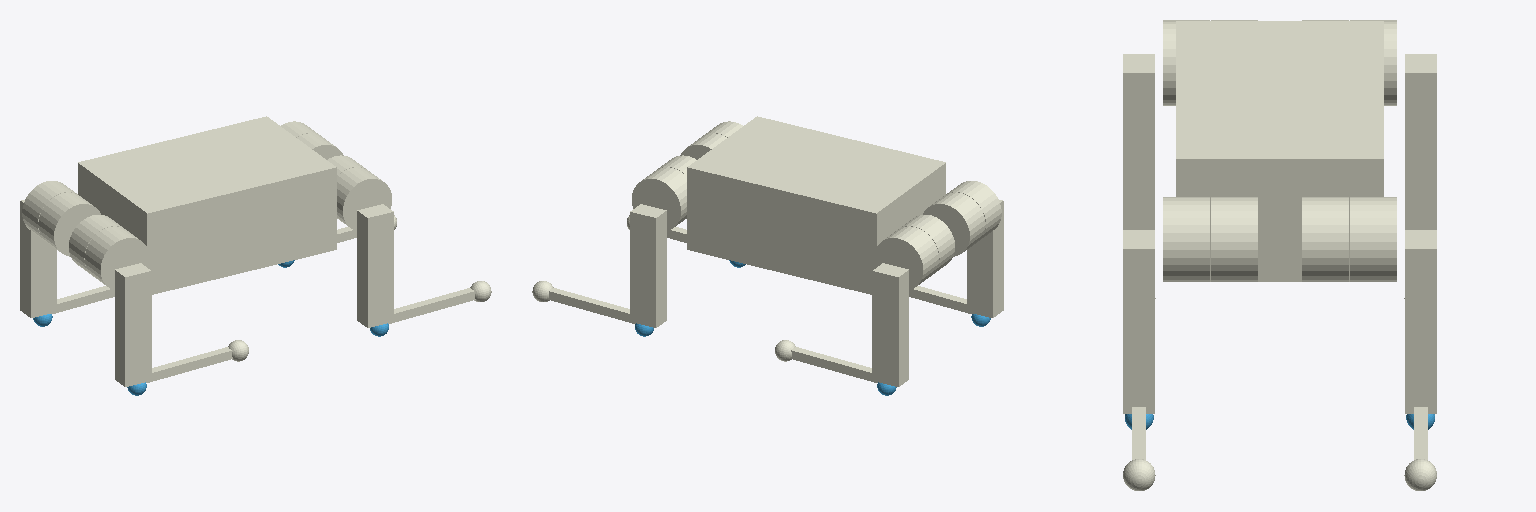
--- What the picture shows (computed from the rendered views, not written in the file) ---
Views: 3 orthographic renders of the robot side by side, from view 1: azimuth 30°, elevation 25°; view 2: azimuth 150°, elevation 25°; view 3: azimuth 270°, elevation 25°.
Model cyberdog_description with 35 links and 34 joints (12 revolute, 22 fixed), rooted at base, posed all joints at 0 but 4 set to mid-range because 0 is outside their limits (FR_calf_joint = -1.61, FL_calf_joint = -1.61, RR_calf_joint = -1.61, RL_calf_joint = -1.61).
Links seen in each view (by area): view 1: trunk, FR_thigh, RR_thigh, RL_thigh, RR_thigh_shoulder, FR_thigh_shoulder, RL_hip, FR_calf, RR_calf, RL_thigh_shoulder, RR_hip, RL_calf (+1 smaller); view 2: trunk, FL_thigh, RL_thigh, RR_thigh, RL_thigh_shoulder, FL_thigh_shoulder, RR_hip, FL_calf, RL_calf, RR_thigh_shoulder, RL_hip, RR_calf (+1 smaller); view 3: trunk, FR_thigh, FL_thigh, RR_thigh, RL_thigh, FR_hip, FR_thigh_shoulder, FL_hip, FL_thigh_shoulder, RR_thigh_shoulder, RL_thigh_shoulder, FR_calf (+3 smaller).
Link boxes in pixels (box(x1,y1,x2,y2)): trunk: box(78, 116, 336, 294); FR_thigh: box(357, 204, 393, 327); RR_thigh: box(115, 263, 151, 386); RL_thigh: box(20, 200, 56, 317); RR_thigh_shoulder: box(85, 226, 149, 289); FR_thigh_shoulder: box(337, 167, 391, 230); RL_hip: box(38, 192, 100, 256); FR_calf: box(370, 288, 475, 336); RR_calf: box(127, 347, 232, 395); RL_thigh_shoulder: box(22, 181, 76, 240); RR_hip: box(69, 215, 122, 273); RL_calf: box(33, 286, 114, 326); trunk: box(687, 116, 945, 294); FL_thigh: box(630, 204, 666, 327); RL_thigh: box(872, 263, 908, 386); RR_thigh: box(967, 200, 1003, 317); RL_thigh_shoulder: box(874, 226, 938, 289); FL_thigh_shoulder: box(632, 167, 686, 230); RR_hip: box(923, 192, 985, 256); FL_calf: box(548, 288, 653, 336); RL_calf: box(791, 347, 896, 395); RR_thigh_shoulder: box(947, 181, 1001, 240); RL_hip: box(901, 215, 954, 273); RR_calf: box(909, 286, 990, 326); trunk: box(1176, 21, 1383, 281); FR_thigh: box(1123, 230, 1154, 413); FL_thigh: box(1405, 230, 1436, 413); RR_thigh: box(1123, 54, 1154, 229); RL_thigh: box(1405, 54, 1436, 229); FR_hip: box(1211, 197, 1257, 281); FR_thigh_shoulder: box(1163, 197, 1209, 281); FL_hip: box(1302, 197, 1348, 281); FL_thigh_shoulder: box(1350, 197, 1396, 281); RR_thigh_shoulder: box(1163, 20, 1209, 105); RL_thigh_shoulder: box(1350, 20, 1396, 105); FR_calf: box(1125, 407, 1153, 459).
Size in the robot's own frame: 0.7256 by 0.3462 by 0.3032 metres.
Geometry: primitives only (box / cylinder / sphere), no mesh files.

robot.urdf — cyberdog_description:
<?xml version="1.0" ?>
<robot name="cyberdog_description" xmlns:xacro="http://www.ros.org/wiki/xacro">
  <material name="black">
    <color rgba="0.0 0.0 0.0 1.0"/>
  </material>
  <material name="blue">
    <color rgba="0.0 0.0 0.8 1.0"/>
  </material>
  <material name="green">
    <color rgba="0.0 0.8 0.0 1.0"/>
  </material>
  <material name="grey">
    <color rgba="0.2 0.2 0.2 1.0"/>
  </material>
  <material name="silver">
    <color rgba="0.913725490196 0.913725490196 0.847058823529 1.0"/>
  </material>
  <material name="orange">
    <color rgba="0.12 0.15 0.2 1.0"/>
  </material>
  <material name="brown">
    <color rgba="0.870588235294 0.811764705882 0.764705882353 1.0"/>
  </material>
  <material name="red">
    <color rgba="0.8 0.0 0.0 1.0"/>
  </material>
  <material name="white">
    <color rgba="1.0 1.0 1.0 1.0"/>
  </material>

  <link name="base">
    <visual>
      <origin rpy="0 0 0" xyz="0 0 0"/>
      <geometry>
        <box size="0.001 0.001 0.001"/>
      </geometry>
    </visual>
  </link>
  <joint name="floating_base" type="fixed">
    <origin rpy="0 0 0" xyz="0 0 0"/>
    <parent link="base"/>
    <child link="trunk"/>
  </joint>
  <link name="trunk">
    <visual>
      <origin rpy="0 0 0" xyz="0 0 0"/>
      <geometry>
        <box size="0.36 0.23 0.15"/>
      </geometry>
      <material name="silver"/>
    </visual>
    <collision>
      <origin rpy="0 0 0" xyz="0 0 0"/>
      <geometry>
        <box size="0.36 0.23 0.15"/>
      </geometry>
    </collision>
    <inertial>
      <origin rpy="0 0 0" xyz="0.018785003 0.003291012 -0.000925646"/>
      <mass value="6.248410872"/>
      <inertia ixx="0.032143039" ixy="-0.000268204" ixz="-0.00241341" iyy="0.13578316" iyz="8.0244e-05" izz="0.14828095"/>
    </inertial>
  </link>
  <joint name="imu_joint" type="fixed">
    <parent link="trunk"/>
    <child link="imu_link"/>
    <origin rpy="0 0 0" xyz="0 0 0"/>
  </joint>
  <link name="imu_link">
  </link>

  <joint name="FR_hip_joint" type="revolute">
    <origin rpy="0 0 0" xyz="0.23035 -0.05 0"/>
    <parent link="trunk"/>
    <child link="FR_hip"/>
    <axis xyz="1 0 0"/>
    <dynamics damping="0" friction="0"/>
    <limit effort="24" lower="-0.76096355387" upper="0.76096355387" velocity="31"/>
  </joint>
  <link name="FR_hip">
    <visual>
      <origin rpy="1.5707963267948966 0 0" xyz="0 0 0"/>
      <geometry>
        <cylinder length="0.052" radius="0.047"/>
      </geometry>
      <material name="silver"/>
    </visual>
    <collision>
      <origin rpy="1.5707963267948966 0 0" xyz="0 0 0"/>
      <geometry>
        <cylinder length="0.052" radius="0.047"/>
      </geometry>
    </collision>
    <inertial>
      <origin rpy="0 0 0" xyz="-0.001597914 -0.001680938 2.253e-06"/>
      <mass value="0.537806728"/>
      <inertia ixx="0.000403612" ixy="9.337e-06" ixz="5.36e-07" iyy="0.000600779" iyz="6.3e-08" izz="0.000417249"/>
    </inertial>
  </link>
  <joint name="FR_hip_rotor_fix" type="fixed">
    <origin rpy="0 0 0" xyz="-0.0832504 0 0"/>
    <parent link="FR_hip"/>
    <child link="FR_hip_rotor"/>
  </joint>
  <!-- this link is only for abad rotor inertial -->
  <link name="FR_hip_rotor">
    <inertial>
      <origin rpy="0 0 0" xyz="0 0 0"/>
      <mass value="0.076506382"/>
      <inertia ixx="4.5843e-05" ixy="0" ixz="0" iyy="4.5871e-05" iyz="0" izz="8.9031e-05"/>
    </inertial>
  </link>
  <joint name="FR_hip_fixed" type="fixed">
    <origin rpy="0 0 0" xyz="0 -0.053076000000000005 0"/>
    <parent link="FR_hip"/>
    <child link="FR_thigh_shoulder"/>
  </joint>
  <link name="FR_thigh_shoulder">
    <visual>
      <origin rpy="1.5707963267948966 0 0" xyz="0 0 0"/>
      <geometry>
        <cylinder length="0.052" radius="0.047"/>
      </geometry>
      <material name="silver"/>
    </visual>
    <collision>
      <origin rpy="1.5707963267948966 0 0" xyz="0 0 0"/>
      <geometry>
        <cylinder length="0.052" radius="0.047"/>
      </geometry>
    </collision>
  </link>
  <joint name="FR_thigh_joint" type="revolute">
    <origin rpy="0 0 0" xyz="0 -0.105076 0"/>
    <parent link="FR_hip"/>
    <child link="FR_thigh"/>
    <axis xyz="0 1 0"/>
    <dynamics damping="0" friction="0"/>
    <limit effort="24" lower="-1.88495559215" upper="3.76991118431" velocity="31"/>
  </joint>
  <link name="FR_thigh">
    <visual>
      <origin rpy="0 1.5707963267948966 0" xyz="0 0 -0.1"/>
      <geometry>
        <box size="0.2 0.035 0.05"/>
      </geometry>
      <material name="silver"/>
    </visual>
    <collision>
      <origin rpy="0 1.5707963267948966 0" xyz="0 0 -0.1"/>
      <geometry>
        <box size="0.2 0.035 0.05"/>
      </geometry>
    </collision>
    <inertial>
      <origin rpy="0 0 0" xyz="-0.003205778 0.027811623 -0.027767048"/>
      <mass value="0.950266218"/>
      <inertia ixx="0.004811898" ixy="-9.3647e-05" ixz="-0.000208709" iyy="0.004752366" iyz="-0.000813258" izz="0.001079691"/>
    </inertial>
  </link>
  <joint name="FR_thigh_rotor_fix" type="fixed">
    <origin rpy="0 0 0" xyz="0 0.107226 0"/>
    <parent link="FR_thigh"/>
    <child link="FR_thigh_rotor"/>
  </joint>
  <!-- this link is only for hip rotor inertial -->
  <link name="FR_thigh_rotor">
    <inertial>
      <origin rpy="0 0 0" xyz="0 0 0"/>
      <mass value="0.076506382"/>
      <inertia ixx="4.5843e-05" ixy="0" ixz="0" iyy="4.5871e-05" iyz="0" izz="8.9031e-05"/>
    </inertial>
  </link>
  <joint name="FR_calf_rotor_fix" type="fixed">
    <origin rpy="0 0 0" xyz="0 0.0426259 0"/>
    <parent link="FR_thigh"/>
    <child link="FR_calf_rotor"/>
  </joint>
  <!-- this link is only for knee rotor inertial -->
  <link name="FR_calf_rotor">
    <inertial>
      <origin rpy="0 0 0" xyz="0 0 0"/>
      <mass value="0.076506382"/>
      <inertia ixx="4.5843e-05" ixy="0" ixz="0" iyy="4.5871e-05" iyz="0" izz="8.9031e-05"/>
    </inertial>
  </link>
  <joint name="FR_calf_joint" type="revolute">
    <origin rpy="0 0 0" xyz="0 0 -0.2"/>
    <parent link="FR_thigh"/>
    <child link="FR_calf"/>
    <axis xyz="0 1 0"/>
    <dynamics damping="0" friction="0"/>
    <limit effort="24" lower="-2.49582083035" upper="-0.717155789644" velocity="31"/>
  </joint>
  <link name="FR_calf">
    <visual>
      <origin rpy="0 3.141592653589793 0" xyz="0 0 -0.1045"/>
      <geometry>
        <box size="0.016 0.016 0.209"/>
      </geometry>
      <material name="silver"/>
    </visual>
    <visual name="FR_calf_rubber">
      <origin rpy="0 3.141592653589793 0" xyz="-0.0125 0 -0.007"/>
      <geometry>
        <sphere radius="0.016"/>
      </geometry>
    </visual>
    <collision>
      <origin rpy="0 3.141592653589793 0" xyz="0 0 -0.1045"/>
      <geometry>
        <box size="0.016 0.016 0.209"/>
      </geometry>
    </collision>
    <collision name="FR_calf_rubber">
      <origin rpy="0 3.141592653589793 0" xyz="-0.0125 0 -0.007"/>
      <geometry>
        <sphere radius="0.016"/>
      </geometry>
    </collision>
    <inertial>
      <origin rpy="0 0 0" xyz="0.007372358 0.000122423 -0.10769301"/>
      <mass value="0.1135916"/>
      <inertia ixx="0.000667971" ixy="-1e-09" ixz="5.356e-06" iyy="0.000674399" iyz="-1.5e-08" izz="1.4181e-05"/>
    </inertial>
  </link>
  <joint name="FR_foot_fixed" type="fixed" dont_collapse="true">
    <origin rpy="0 0 0" xyz="0 0 -0.19999999999999998"/>
    <parent link="FR_calf"/>
    <child link="FR_foot"/>
  </joint>
  <link name="FR_foot">
    <visual>
      <origin rpy="0 0 0" xyz="0 0 0"/>
      <geometry>
        <sphere radius="0.018"/>
      </geometry>
      <material name="silver"/>
    </visual>
    <collision>
      <origin rpy="0 0 0" xyz="0 0 0"/>
      <geometry>
        <sphere radius="0.018"/>
      </geometry>
    </collision>
  </link>

  <joint name="FL_hip_joint" type="revolute">
    <origin rpy="0 0 0" xyz="0.23035 0.05 0"/>
    <parent link="trunk"/>
    <child link="FL_hip"/>
    <axis xyz="1 0 0"/>
    <dynamics damping="0" friction="0"/>
    <limit effort="24" lower="-0.76096355387" upper="0.76096355387" velocity="31"/>
  </joint>
  <link name="FL_hip">
    <visual>
      <origin rpy="1.5707963267948966 0 0" xyz="0 0 0"/>
      <geometry>
        <cylinder length="0.052" radius="0.047"/>
      </geometry>
      <material name="silver"/>
    </visual>
    <collision>
      <origin rpy="1.5707963267948966 0 0" xyz="0 0 0"/>
      <geometry>
        <cylinder length="0.052" radius="0.047"/>
      </geometry>
    </collision>
    <inertial>
      <origin rpy="0 0 0" xyz="-0.001597914 0.001680938 2.253e-06"/>
      <mass value="0.537806728"/>
      <inertia ixx="0.000403612" ixy="-9.337e-06" ixz="5.36e-07" iyy="0.000600779" iyz="-6.3e-08" izz="0.000417249"/>
    </inertial>
  </link>
  <joint name="FL_hip_rotor_fix" type="fixed">
    <origin rpy="0 0 0" xyz="-0.0832504 0 0"/>
    <parent link="FL_hip"/>
    <child link="FL_hip_rotor"/>
  </joint>
  <!-- this link is only for abad rotor inertial -->
  <link name="FL_hip_rotor">
    <inertial>
      <origin rpy="0 0 0" xyz="0 0 0"/>
      <mass value="0.076506382"/>
      <inertia ixx="4.5843e-05" ixy="0" ixz="0" iyy="4.5871e-05" iyz="0" izz="8.9031e-05"/>
    </inertial>
  </link>
  <joint name="FL_hip_fixed" type="fixed">
    <origin rpy="0 0 0" xyz="0 0.053076000000000005 0"/>
    <parent link="FL_hip"/>
    <child link="FL_thigh_shoulder"/>
  </joint>
  <link name="FL_thigh_shoulder">
    <visual>
      <origin rpy="1.5707963267948966 0 0" xyz="0 0 0"/>
      <geometry>
        <cylinder length="0.052" radius="0.047"/>
      </geometry>
      <material name="silver"/>
    </visual>
    <collision>
      <origin rpy="1.5707963267948966 0 0" xyz="0 0 0"/>
      <geometry>
        <cylinder length="0.052" radius="0.047"/>
      </geometry>
    </collision>
  </link>
  <joint name="FL_thigh_joint" type="revolute">
    <origin rpy="0 0 0" xyz="0 0.105076 0"/>
    <parent link="FL_hip"/>
    <child link="FL_thigh"/>
    <axis xyz="0 1 0"/>
    <dynamics damping="0" friction="0"/>
    <limit effort="24" lower="-1.88495559215" upper="3.76991118431" velocity="31"/>
  </joint>
  <link name="FL_thigh">
    <visual>
      <origin rpy="0 1.5707963267948966 0" xyz="0 0 -0.1"/>
      <geometry>
        <box size="0.2 0.035 0.05"/>
      </geometry>
      <material name="silver"/>
    </visual>
    <collision>
      <origin rpy="0 1.5707963267948966 0" xyz="0 0 -0.1"/>
      <geometry>
        <box size="0.2 0.035 0.05"/>
      </geometry>
    </collision>
    <inertial>
      <origin rpy="0 0 0" xyz="-0.003205778 -0.027811623 -0.027767048"/>
      <mass value="0.950266218"/>
      <inertia ixx="0.004811898" ixy="9.3647e-05" ixz="-0.000208709" iyy="0.004752366" iyz="0.000813258" izz="0.001079691"/>
    </inertial>
  </link>
  <joint name="FL_thigh_rotor_fix" type="fixed">
    <origin rpy="0 0 0" xyz="0 -0.107226 0"/>
    <parent link="FL_thigh"/>
    <child link="FL_thigh_rotor"/>
  </joint>
  <!-- this link is only for hip rotor inertial -->
  <link name="FL_thigh_rotor">
    <inertial>
      <origin rpy="0 0 0" xyz="0 0 0"/>
      <mass value="0.076506382"/>
      <inertia ixx="4.5843e-05" ixy="0" ixz="0" iyy="4.5871e-05" iyz="0" izz="8.9031e-05"/>
    </inertial>
  </link>
  <joint name="FL_calf_rotor_fix" type="fixed">
    <origin rpy="0 0 0" xyz="0 -0.0426259 0"/>
    <parent link="FL_thigh"/>
    <child link="FL_calf_rotor"/>
  </joint>
  <!-- this link is only for knee rotor inertial -->
  <link name="FL_calf_rotor">
    <inertial>
      <origin rpy="0 0 0" xyz="0 0 0"/>
      <mass value="0.076506382"/>
      <inertia ixx="4.5843e-05" ixy="0" ixz="0" iyy="4.5871e-05" iyz="0" izz="8.9031e-05"/>
    </inertial>
  </link>
  <joint name="FL_calf_joint" type="revolute">
    <origin rpy="0 0 0" xyz="0 0 -0.2"/>
    <parent link="FL_thigh"/>
    <child link="FL_calf"/>
    <axis xyz="0 1 0"/>
    <dynamics damping="0" friction="0"/>
    <limit effort="24" lower="-2.49582083035" upper="-0.717155789644" velocity="31"/>
  </joint>
  <link name="FL_calf">
    <visual>
      <origin rpy="0 3.141592653589793 0" xyz="0 0 -0.1045"/>
      <geometry>
        <box size="0.016 0.016 0.209"/>
      </geometry>
      <material name="silver"/>
    </visual>
    <visual name="FL_calf_rubber">
      <origin rpy="0 3.141592653589793 0" xyz="-0.0125 0 -0.007"/>
      <geometry>
        <sphere radius="0.016"/>
      </geometry>
    </visual>
    <collision>
      <origin rpy="0 3.141592653589793 0" xyz="0 0 -0.1045"/>
      <geometry>
        <box size="0.016 0.016 0.209"/>
      </geometry>
    </collision>
    <collision name="FL_calf_rubber">
      <origin rpy="0 3.141592653589793 0" xyz="-0.0125 0 -0.007"/>
      <geometry>
        <sphere radius="0.016"/>
      </geometry>
    </collision>
    <inertial>
      <origin rpy="0 0 0" xyz="0.007372358 0.000122423 -0.10769301"/>
      <mass value="0.1135916"/>
      <inertia ixx="0.000667971" ixy="-1e-09" ixz="5.356e-06" iyy="0.000674399" iyz="-1.5e-08" izz="1.4181e-05"/>
    </inertial>
  </link>
  <joint name="FL_foot_fixed" type="fixed" dont_collapse="true">
    <origin rpy="0 0 0" xyz="0 0 -0.19999999999999998"/>
    <parent link="FL_calf"/>
    <child link="FL_foot"/>
  </joint>
  <link name="FL_foot">
    <visual>
      <origin rpy="0 0 0" xyz="0 0 0"/>
      <geometry>
        <sphere radius="0.018"/>
      </geometry>
      <material name="silver"/>
    </visual>
    <collision>
      <origin rpy="0 0 0" xyz="0 0 0"/>
      <geometry>
        <sphere radius="0.018"/>
      </geometry>
    </collision>
  </link>

  <joint name="RR_hip_joint" type="revolute">
    <origin rpy="0 0 0" xyz="-0.23035 -0.05 0"/>
    <parent link="trunk"/>
    <child link="RR_hip"/>
    <axis xyz="1 0 0"/>
    <dynamics damping="0" friction="0"/>
    <limit effort="24" lower="-0.76096355387" upper="0.76096355387" velocity="31"/>
  </joint>
  <link name="RR_hip">
    <visual>
      <origin rpy="1.5707963267948966 0 0" xyz="0 0 0"/>
      <geometry>
        <cylinder length="0.052" radius="0.047"/>
      </geometry>
      <material name="silver"/>
    </visual>
    <collision>
      <origin rpy="1.5707963267948966 0 0" xyz="0 0 0"/>
      <geometry>
        <cylinder length="0.052" radius="0.047"/>
      </geometry>
    </collision>
    <inertial>
      <origin rpy="0 0 0" xyz="0.001597914 -0.001680938 2.253e-06"/>
      <mass value="0.537806728"/>
      <inertia ixx="0.000403612" ixy="-9.337e-06" ixz="-5.36e-07" iyy="0.000600779" iyz="6.3e-08" izz="0.000417249"/>
    </inertial>
  </link>
  <joint name="RR_hip_rotor_fix" type="fixed">
    <origin rpy="0 0 0" xyz="0.0832504 0 0"/>
    <parent link="RR_hip"/>
    <child link="RR_hip_rotor"/>
  </joint>
  <!-- this link is only for abad rotor inertial -->
  <link name="RR_hip_rotor">
    <inertial>
      <origin rpy="0 0 0" xyz="0 0 0"/>
      <mass value="0.076506382"/>
      <inertia ixx="4.5843e-05" ixy="0" ixz="0" iyy="4.5871e-05" iyz="0" izz="8.9031e-05"/>
    </inertial>
  </link>
  <joint name="RR_hip_fixed" type="fixed">
    <origin rpy="0 0 0" xyz="0 -0.053076000000000005 0"/>
    <parent link="RR_hip"/>
    <child link="RR_thigh_shoulder"/>
  </joint>
  <link name="RR_thigh_shoulder">
    <visual>
      <origin rpy="1.5707963267948966 0 0" xyz="0 0 0"/>
      <geometry>
        <cylinder length="0.052" radius="0.047"/>
      </geometry>
      <material name="silver"/>
    </visual>
    <collision>
      <origin rpy="1.5707963267948966 0 0" xyz="0 0 0"/>
      <geometry>
        <cylinder length="0.052" radius="0.047"/>
      </geometry>
    </collision>
  </link>
  <joint name="RR_thigh_joint" type="revolute">
    <origin rpy="0 0 0" xyz="0 -0.105076 0"/>
    <parent link="RR_hip"/>
    <child link="RR_thigh"/>
    <axis xyz="0 1 0"/>
    <dynamics damping="0" friction="0"/>
    <limit effort="24" lower="-1.88495559215" upper="3.76991118431" velocity="31"/>
  </joint>
  <link name="RR_thigh">
    <visual>
      <origin rpy="0 1.5707963267948966 0" xyz="0 0 -0.1"/>
      <geometry>
        <box size="0.2 0.035 0.05"/>
      </geometry>
      <material name="silver"/>
    </visual>
    <collision>
      <origin rpy="0 1.5707963267948966 0" xyz="0 0 -0.1"/>
      <geometry>
        <box size="0.2 0.035 0.05"/>
      </geometry>
    </collision>
    <inertial>
      <origin rpy="0 0 0" xyz="-0.003205778 0.027811623 -0.027767048"/>
      <mass value="0.950266218"/>
      <inertia ixx="0.004811898" ixy="-9.3647e-05" ixz="-0.000208709" iyy="0.004752366" iyz="-0.000813258" izz="0.001079691"/>
    </inertial>
  </link>
  <joint name="RR_thigh_rotor_fix" type="fixed">
    <origin rpy="0 0 0" xyz="0 0.107226 0"/>
    <parent link="RR_thigh"/>
    <child link="RR_thigh_rotor"/>
  </joint>
  <!-- this link is only for hip rotor inertial -->
  <link name="RR_thigh_rotor">
    <inertial>
      <origin rpy="0 0 0" xyz="0 0 0"/>
      <mass value="0.076506382"/>
      <inertia ixx="4.5843e-05" ixy="0" ixz="0" iyy="4.5871e-05" iyz="0" izz="8.9031e-05"/>
    </inertial>
  </link>
  <joint name="RR_calf_rotor_fix" type="fixed">
    <origin rpy="0 0 0" xyz="0 0.0426259 0"/>
    <parent link="RR_thigh"/>
    <child link="RR_calf_rotor"/>
  </joint>
  <!-- this link is only for knee rotor inertial -->
  <link name="RR_calf_rotor">
    <inertial>
      <origin rpy="0 0 0" xyz="0 0 0"/>
      <mass value="0.076506382"/>
      <inertia ixx="4.5843e-05" ixy="0" ixz="0" iyy="4.5871e-05" iyz="0" izz="8.9031e-05"/>
    </inertial>
  </link>
  <joint name="RR_calf_joint" type="revolute">
    <origin rpy="0 0 0" xyz="0 0 -0.2"/>
    <parent link="RR_thigh"/>
    <child link="RR_calf"/>
    <axis xyz="0 1 0"/>
    <dynamics damping="0" friction="0"/>
    <limit effort="24" lower="-2.49582083035" upper="-0.717155789644" velocity="31"/>
  </joint>
  <link name="RR_calf">
    <visual>
      <origin rpy="0 3.141592653589793 0" xyz="0 0 -0.1045"/>
      <geometry>
        <box size="0.016 0.016 0.209"/>
      </geometry>
      <material name="silver"/>
    </visual>
    <visual name="RR_calf_rubber">
      <origin rpy="0 3.141592653589793 0" xyz="-0.0125 0 -0.007"/>
      <geometry>
        <sphere radius="0.016"/>
      </geometry>
    </visual>
    <collision>
      <origin rpy="0 3.141592653589793 0" xyz="0 0 -0.1045"/>
      <geometry>
        <box size="0.016 0.016 0.209"/>
      </geometry>
    </collision>
    <collision name="RR_calf_rubber">
      <origin rpy="0 3.141592653589793 0" xyz="-0.0125 0 -0.007"/>
      <geometry>
        <sphere radius="0.016"/>
      </geometry>
    </collision>
    <inertial>
      <origin rpy="0 0 0" xyz="0.007372358 0.000122423 -0.10769301"/>
      <mass value="0.1135916"/>
      <inertia ixx="0.000667971" ixy="-1e-09" ixz="5.356e-06" iyy="0.000674399" iyz="-1.5e-08" izz="1.4181e-05"/>
    </inertial>
  </link>
  <joint name="RR_foot_fixed" type="fixed" dont_collapse="true">
    <origin rpy="0 0 0" xyz="0 0 -0.19999999999999998"/>
    <parent link="RR_calf"/>
    <child link="RR_foot"/>
  </joint>
  <link name="RR_foot">
    <visual>
      <origin rpy="0 0 0" xyz="0 0 0"/>
      <geometry>
        <sphere radius="0.018"/>
      </geometry>
      <material name="silver"/>
    </visual>
    <collision>
      <origin rpy="0 0 0" xyz="0 0 0"/>
      <geometry>
        <sphere radius="0.018"/>
      </geometry>
    </collision>
  </link>
  <!-- <xacro:leg_transmission name="${name}" /> -->
  <joint name="RL_hip_joint" type="revolute">
    <origin rpy="0 0 0" xyz="-0.23035 0.05 0"/>
    <parent link="trunk"/>
    <child link="RL_hip"/>
    <axis xyz="1 0 0"/>
    <dynamics damping="0" friction="0"/>
    <limit effort="24" lower="-0.76096355387" upper="0.76096355387" velocity="31"/>
  </joint>
  <link name="RL_hip">
    <visual>
      <origin rpy="1.5707963267948966 0 0" xyz="0 0 0"/>
      <geometry>
        <cylinder length="0.052" radius="0.047"/>
      </geometry>
      <material name="silver"/>
    </visual>
    <collision>
      <origin rpy="1.5707963267948966 0 0" xyz="0 0 0"/>
      <geometry>
        <cylinder length="0.052" radius="0.047"/>
      </geometry>
    </collision>
    <inertial>
      <origin rpy="0 0 0" xyz="0.001597914 0.001680938 2.253e-06"/>
      <mass value="0.537806728"/>
      <inertia ixx="0.000403612" ixy="9.337e-06" ixz="-5.36e-07" iyy="0.000600779" iyz="-6.3e-08" izz="0.000417249"/>
    </inertial>
  </link>
  <joint name="RL_hip_rotor_fix" type="fixed">
    <origin rpy="0 0 0" xyz="0.0832504 0 0"/>
    <parent link="RL_hip"/>
    <child link="RL_hip_rotor"/>
  </joint>
  <!-- this link is only for abad rotor inertial -->
  <link name="RL_hip_rotor">
    <inertial>
      <origin rpy="0 0 0" xyz="0 0 0"/>
      <mass value="0.076506382"/>
      <inertia ixx="4.5843e-05" ixy="0" ixz="0" iyy="4.5871e-05" iyz="0" izz="8.9031e-05"/>
    </inertial>
  </link>
  <joint name="RL_hip_fixed" type="fixed">
    <origin rpy="0 0 0" xyz="0 0.053076000000000005 0"/>
    <parent link="RL_hip"/>
    <child link="RL_thigh_shoulder"/>
  </joint>
  <link name="RL_thigh_shoulder">
    <visual>
      <origin rpy="1.5707963267948966 0 0" xyz="0 0 0"/>
      <geometry>
        <cylinder length="0.052" radius="0.047"/>
      </geometry>
      <material name="silver"/>
    </visual>
    <collision>
      <origin rpy="1.5707963267948966 0 0" xyz="0 0 0"/>
      <geometry>
        <cylinder length="0.052" radius="0.047"/>
      </geometry>
    </collision>
  </link>
  <joint name="RL_thigh_joint" type="revolute">
    <origin rpy="0 0 0" xyz="0 0.105076 0"/>
    <parent link="RL_hip"/>
    <child link="RL_thigh"/>
    <axis xyz="0 1 0"/>
    <dynamics damping="0" friction="0"/>
    <limit effort="24" lower="-1.88495559215" upper="3.76991118431" velocity="31"/>
  </joint>
  <link name="RL_thigh">
    <visual>
      <origin rpy="0 1.5707963267948966 0" xyz="0 0 -0.1"/>
      <geometry>
        <box size="0.2 0.035 0.05"/>
      </geometry>
      <material name="silver"/>
    </visual>
    <collision>
      <origin rpy="0 1.5707963267948966 0" xyz="0 0 -0.1"/>
      <geometry>
        <box size="0.2 0.035 0.05"/>
      </geometry>
    </collision>
    <inertial>
      <origin rpy="0 0 0" xyz="-0.003205778 -0.027811623 -0.027767048"/>
      <mass value="0.950266218"/>
      <inertia ixx="0.004811898" ixy="9.3647e-05" ixz="-0.000208709" iyy="0.004752366" iyz="0.000813258" izz="0.001079691"/>
    </inertial>
  </link>
  <joint name="RL_thigh_rotor_fix" type="fixed">
    <origin rpy="0 0 0" xyz="0 -0.107226 0"/>
    <parent link="RL_thigh"/>
    <child link="RL_thigh_rotor"/>
  </joint>
  <!-- this link is only for hip rotor inertial -->
  <link name="RL_thigh_rotor">
    <inertial>
      <origin rpy="0 0 0" xyz="0 0 0"/>
      <mass value="0.076506382"/>
      <inertia ixx="4.5843e-05" ixy="0" ixz="0" iyy="4.5871e-05" iyz="0" izz="8.9031e-05"/>
    </inertial>
  </link>
  <joint name="RL_calf_rotor_fix" type="fixed">
    <origin rpy="0 0 0" xyz="0 -0.0426259 0"/>
    <parent link="RL_thigh"/>
    <child link="RL_calf_rotor"/>
  </joint>
  <!-- this link is only for knee rotor inertial -->
  <link name="RL_calf_rotor">
    <inertial>
      <origin rpy="0 0 0" xyz="0 0 0"/>
      <mass value="0.076506382"/>
      <inertia ixx="4.5843e-05" ixy="0" ixz="0" iyy="4.5871e-05" iyz="0" izz="8.9031e-05"/>
    </inertial>
  </link>
  <joint name="RL_calf_joint" type="revolute">
    <origin rpy="0 0 0" xyz="0 0 -0.2"/>
    <parent link="RL_thigh"/>
    <child link="RL_calf"/>
    <axis xyz="0 1 0"/>
    <dynamics damping="0" friction="0"/>
    <limit effort="24" lower="-2.49582083035" upper="-0.717155789644" velocity="31"/>
  </joint>
  <link name="RL_calf">
    <visual>
      <origin rpy="0 3.141592653589793 0" xyz="0 0 -0.1045"/>
      <geometry>
        <box size="0.016 0.016 0.209"/>
      </geometry>
      <material name="silver"/>
    </visual>
    <visual name="RL_calf_rubber">
      <origin rpy="0 3.141592653589793 0" xyz="-0.0125 0 -0.007"/>
      <geometry>
        <sphere radius="0.016"/>
      </geometry>
    </visual>
    <collision>
      <origin rpy="0 3.141592653589793 0" xyz="0 0 -0.1045"/>
      <geometry>
        <box size="0.016 0.016 0.209"/>
      </geometry>
    </collision>
    <collision name="RL_calf_rubber">
      <origin rpy="0 3.141592653589793 0" xyz="-0.0125 0 -0.007"/>
      <geometry>
        <sphere radius="0.016"/>
      </geometry>
    </collision>
    <inertial>
      <origin rpy="0 0 0" xyz="0.007372358 0.000122423 -0.10769301"/>
      <mass value="0.1135916"/>
      <inertia ixx="0.000667971" ixy="-1e-09" ixz="5.356e-06" iyy="0.000674399" iyz="-1.5e-08" izz="1.4181e-05"/>
    </inertial>
  </link>
  <joint name="RL_foot_fixed" type="fixed" dont_collapse="true">
    <origin rpy="0 0 0" xyz="0 0 -0.19999999999999998"/>
    <parent link="RL_calf"/>
    <child link="RL_foot"/>
  </joint>
  <link name="RL_foot">
    <visual>
      <origin rpy="0 0 0" xyz="0 0 0"/>
      <geometry>
        <sphere radius="0.018"/>
      </geometry>
      <material name="silver"/>
    </visual>
    <collision>
      <origin rpy="0 0 0" xyz="0 0 0"/>
      <geometry>
        <sphere radius="0.018"/>
      </geometry>
    </collision>
  </link>
</robot>
